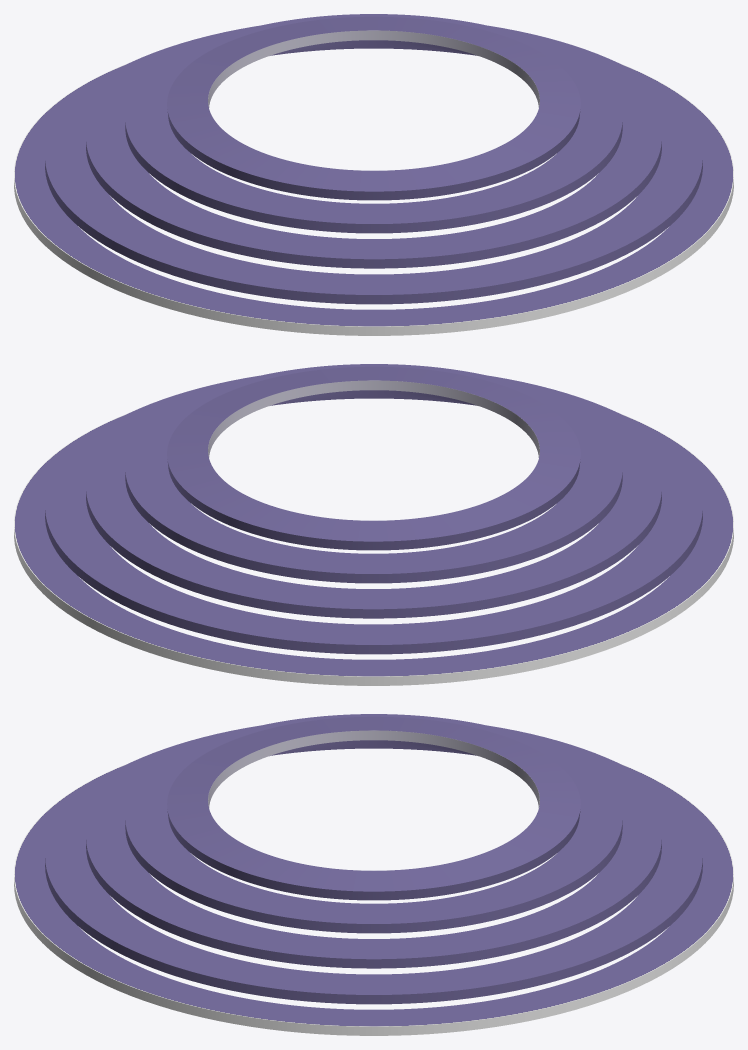
File: huan3.gltf
3 views of the same model, one above another, from view 1: azimuth 30°, elevation 25°; view 2: azimuth 150°, elevation 25°; view 3: azimuth 270°, elevation 25° (orthographic).
Visible parts, largest first — view 1: Z_UP; view 2: Z_UP; view 3: Z_UP.
Part boxes in pixels (box(x1,y1,x2,y2)): Z_UP: box(14, 14, 733, 335); Z_UP: box(14, 364, 733, 685); Z_UP: box(14, 714, 733, 1035).
Bounding box in the file's own units: 210 × 26.76 × 210.
1 material, 1 textured.
